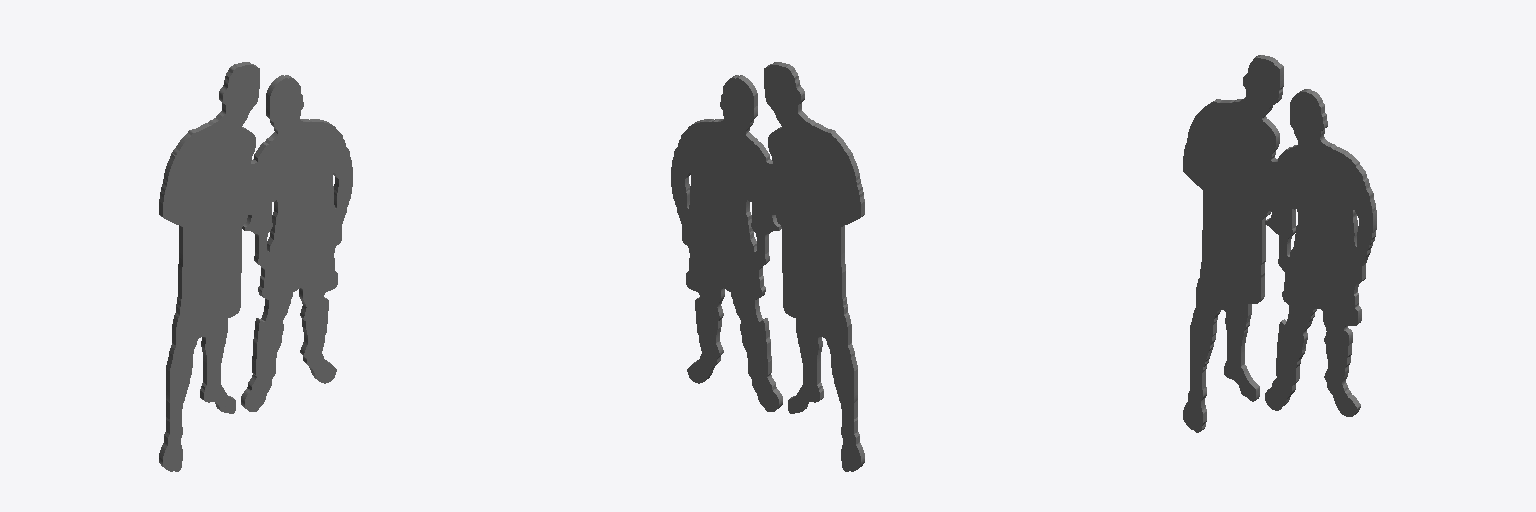
The model's file is fish-2.obj.
3 renders of one model, left to right at view 1: azimuth 30°, elevation 25°; view 2: azimuth 150°, elevation 25°; view 3: azimuth 330°, elevation 25°, orthographic.
Parts seen in each view (by area): view 1: Layer 1; view 2: Layer 1; view 3: Layer 1.
Boxes of the visible parts, <box> form: Layer 1: <box>159,62,352,471</box>; Layer 1: <box>671,62,864,471</box>; Layer 1: <box>1183,55,1376,432</box>.
Bounding box in the file's own units: 14.69 × 28.68 × 0.53.